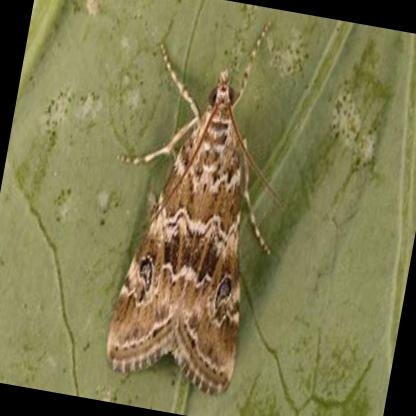Hellula undalis: (101, 17, 279, 397)
